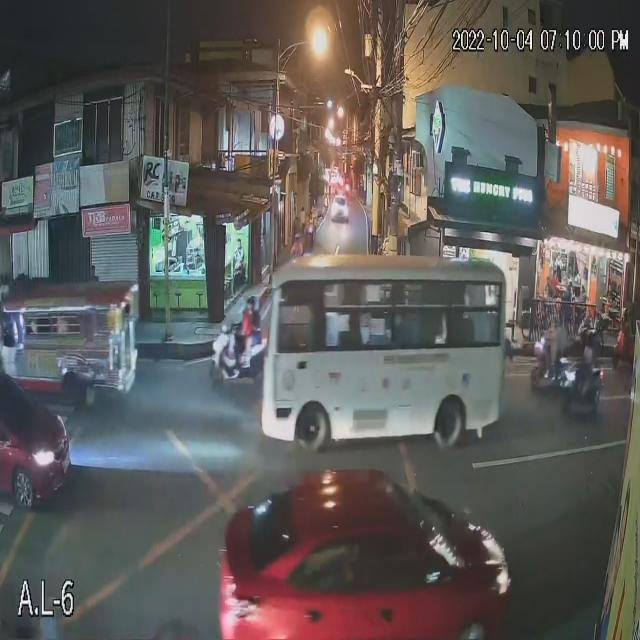helmet: (581, 326, 599, 349), (247, 295, 263, 314), (236, 295, 249, 314)
motorcycle: (208, 323, 266, 392), (556, 364, 606, 410)
rider: (580, 350, 599, 406), (244, 310, 262, 369), (238, 310, 250, 366)
